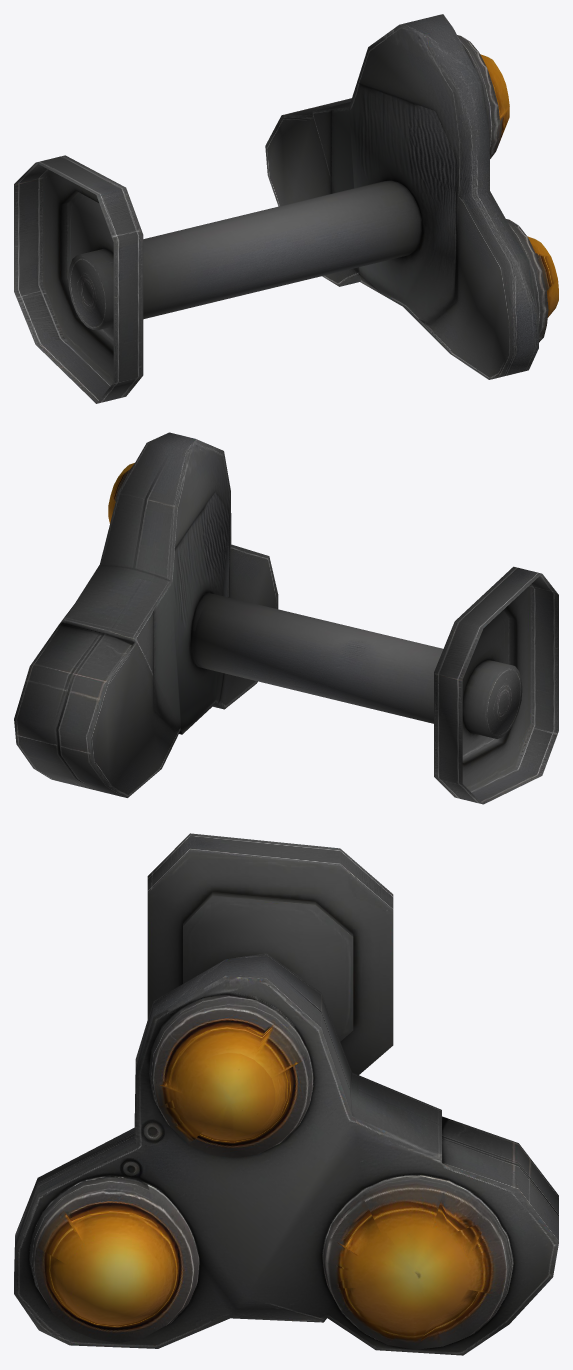
Rendered from cold-iron-v2-light-b-beacon-cluster.glb.
3 views of the same model, one above another, from view 1: azimuth 30°, elevation 25°; view 2: azimuth 150°, elevation 25°; view 3: azimuth 270°, elevation 25° (orthographic). The views are drawn at different scales.
Parts seen in each view (by area): view 1: tripo_node_b65dd829-90b0-4261-9cd0-e432a2445448; view 2: tripo_node_b65dd829-90b0-4261-9cd0-e432a2445448; view 3: tripo_node_b65dd829-90b0-4261-9cd0-e432a2445448.
Boxes of the visible parts, <box> form: tripo_node_b65dd829-90b0-4261-9cd0-e432a2445448: <box>14,14,558,403</box>; tripo_node_b65dd829-90b0-4261-9cd0-e432a2445448: <box>14,432,558,804</box>; tripo_node_b65dd829-90b0-4261-9cd0-e432a2445448: <box>14,833,558,1355</box>.
Size of the model in its own units: 0.998 by 0.6738 by 0.9004.
Materials: 1 (1 with a texture image).
